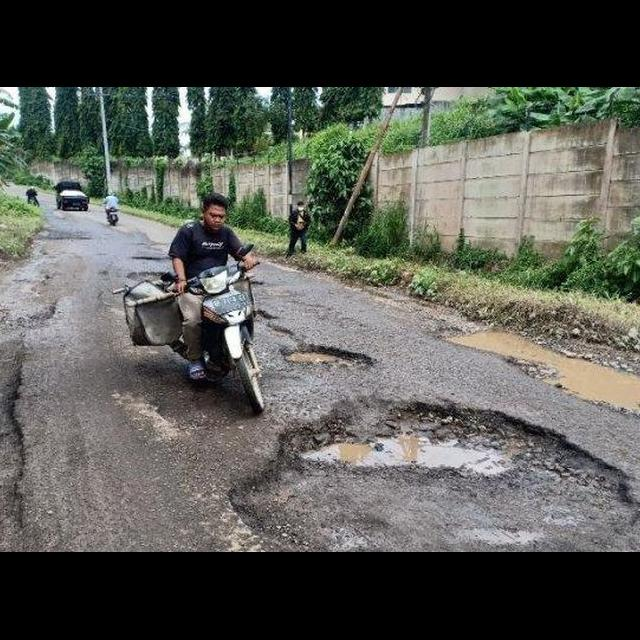lubang_kecil: (267, 388, 624, 552), (454, 326, 640, 428), (272, 338, 382, 378), (252, 308, 301, 343), (118, 264, 170, 283), (131, 252, 168, 266)
